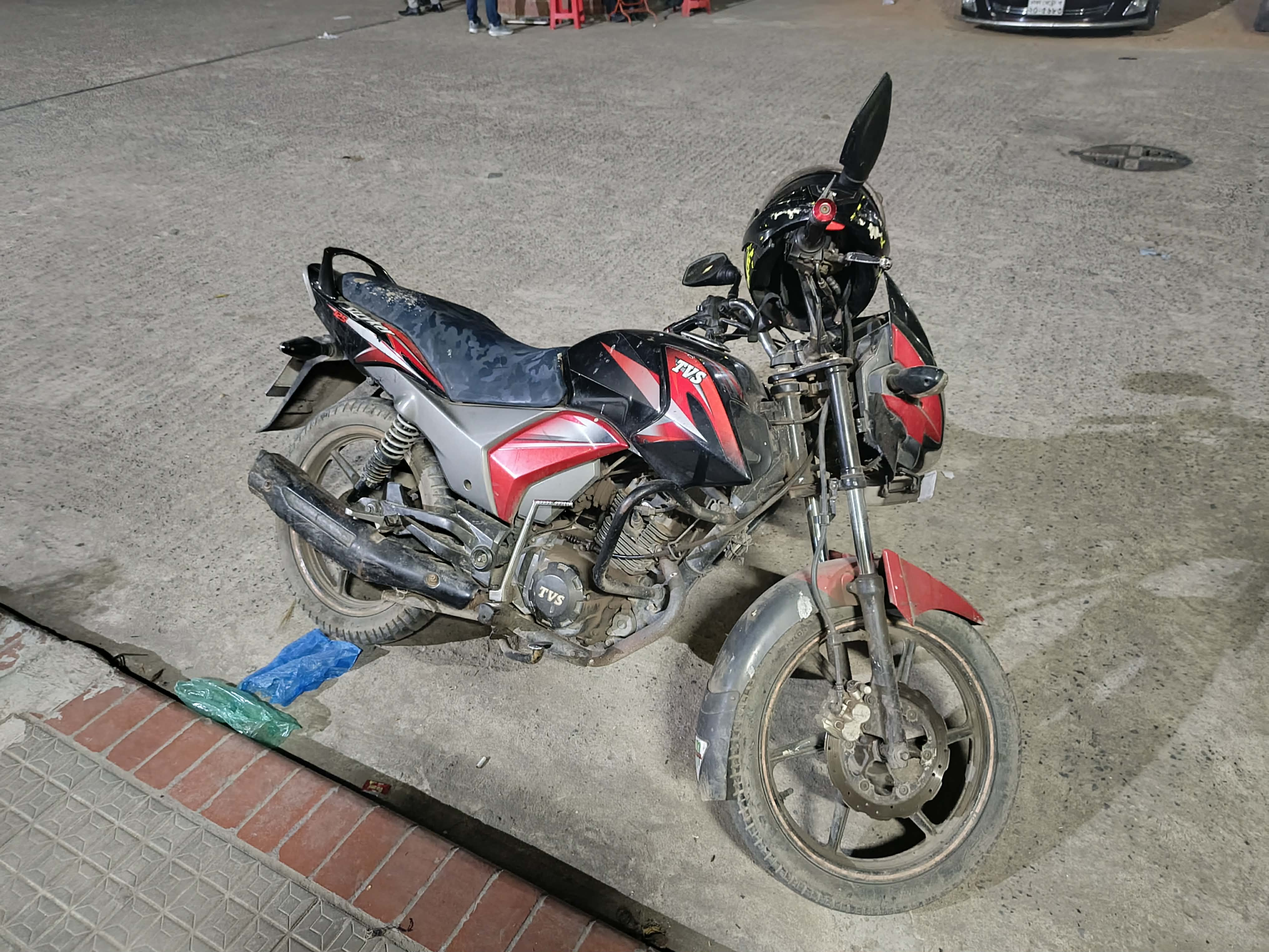Bikes: (249, 85, 1027, 899)
private car: (941, 2, 1186, 52)
